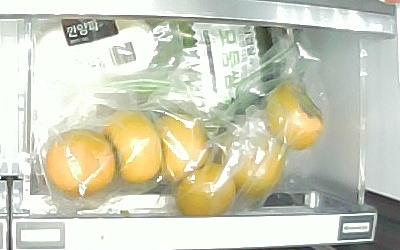persimmon_vinyl: (44, 130, 113, 196), (105, 112, 161, 184), (156, 114, 210, 185), (227, 134, 285, 198), (267, 83, 321, 151), (175, 164, 235, 217)
